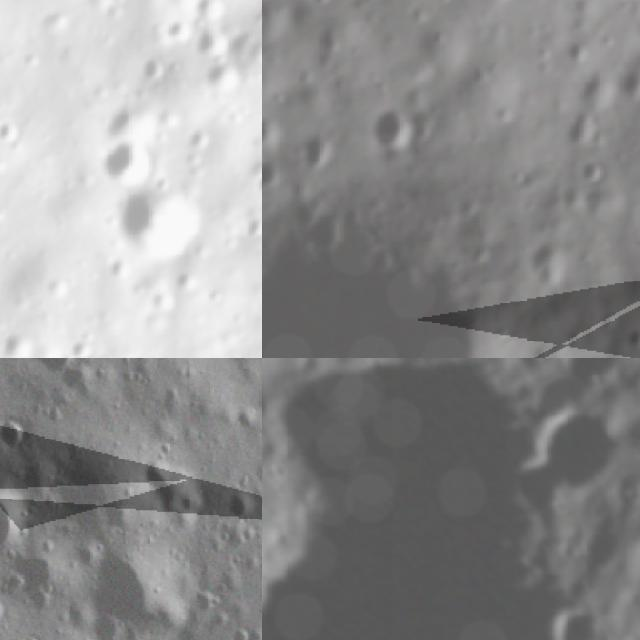crater: (262, 358, 578, 640), (531, 406, 627, 488), (88, 546, 172, 626), (118, 181, 204, 257), (130, 458, 207, 521), (507, 456, 566, 518), (514, 373, 580, 427), (364, 96, 420, 156), (95, 134, 158, 184), (0, 483, 32, 555), (193, 15, 235, 66), (551, 358, 617, 389), (577, 527, 623, 571), (546, 603, 600, 640), (616, 528, 640, 602), (0, 412, 35, 454), (223, 486, 259, 525), (0, 327, 44, 358), (18, 358, 84, 378), (572, 153, 606, 187), (188, 587, 222, 620), (232, 401, 262, 433), (262, 454, 291, 486), (183, 0, 229, 20), (71, 330, 100, 358), (0, 120, 22, 151), (0, 597, 11, 635), (227, 625, 252, 640), (11, 630, 48, 640), (253, 363, 262, 390)
